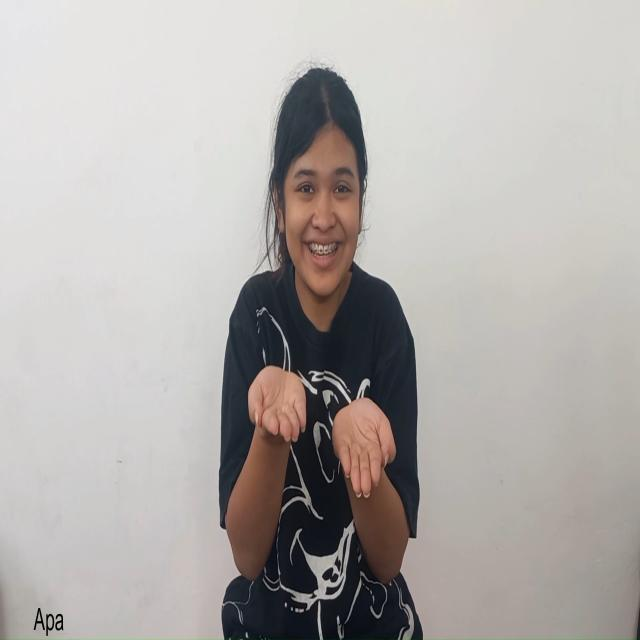Apa -BISINDO-: (222, 359, 416, 591)
